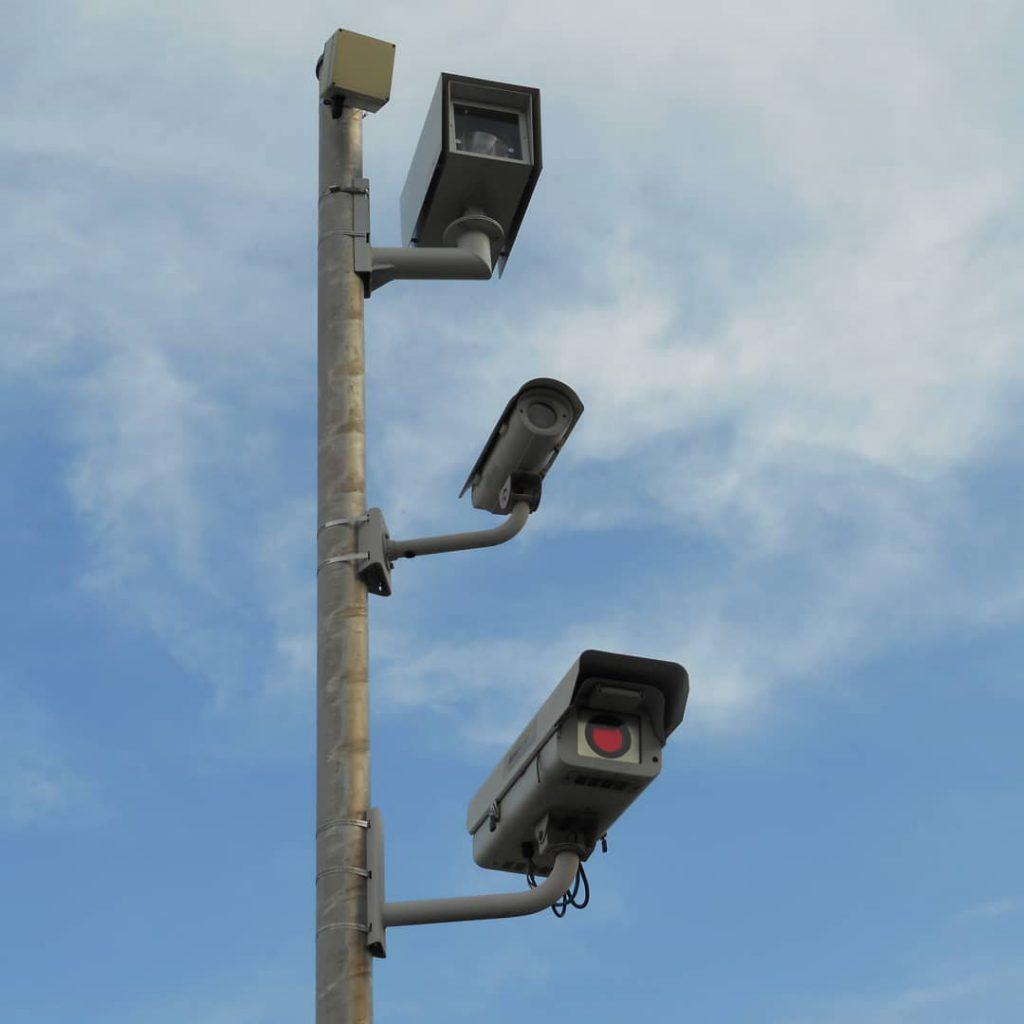Monitor: (466, 647, 690, 877), (397, 70, 543, 278), (457, 375, 584, 516)
